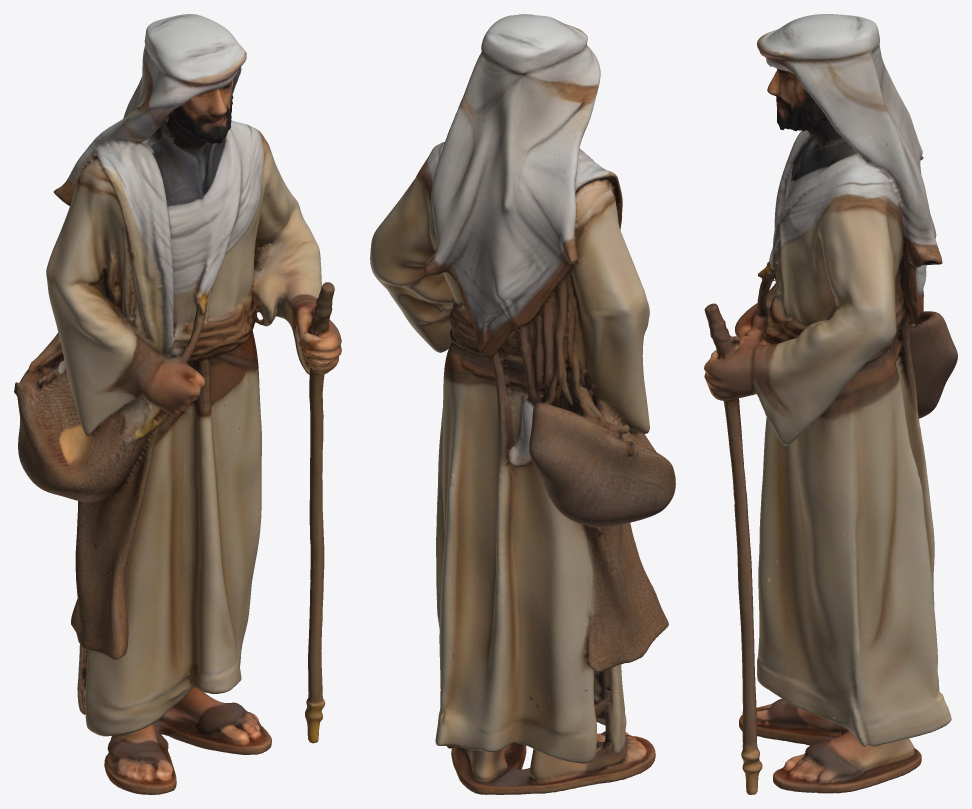
The model's file is arabic_man.glb.
The picture shows the model from 3 angles, left to right: view 1: azimuth 30°, elevation 25°; view 2: azimuth 150°, elevation 25°; view 3: azimuth 270°, elevation 25°; orthographic projection. The views are drawn at different scales.
Parts seen in each view (by area): view 1: Object_4, Object_5, Object_7, Object_6; view 2: Object_6, Object_7, Object_5, Object_4; view 3: Object_4, Object_5, Object_6, Object_7.
Boxes of the visible parts, <box> form: Object_4: <box>70,15,341,794</box>; Object_5: <box>24,16,320,777</box>; Object_7: <box>20,15,312,764</box>; Object_6: <box>14,14,258,738</box>; Object_6: <box>370,29,675,794</box>; Object_7: <box>382,19,674,792</box>; Object_5: <box>372,15,675,786</box>; Object_4: <box>401,14,668,773</box>; Object_4: <box>704,14,873,794</box>; Object_5: <box>788,14,939,793</box>; Object_6: <box>823,22,957,787</box>; Object_7: <box>819,16,957,793</box>.
Size of the model in its own units: 0.8086 by 2 by 0.6218.
1 material, 1 textured.
